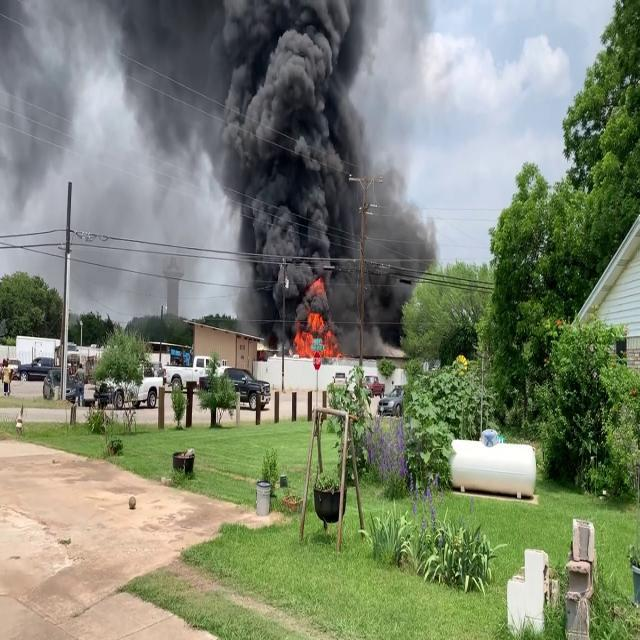Fire: (294, 296, 340, 356)
Smoke: (122, 0, 416, 346)
